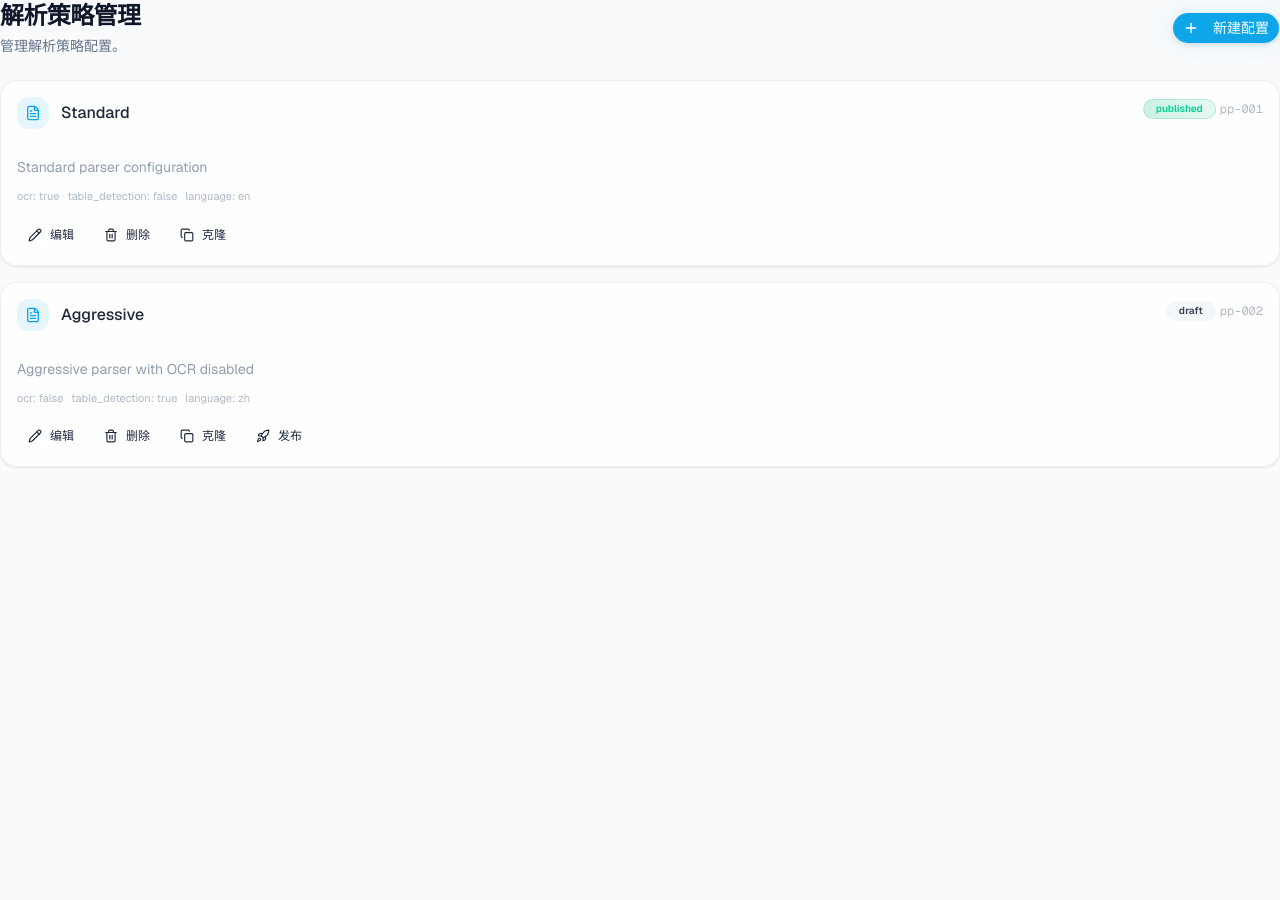
ParserProfilesPage › Edit Profile › submits updated data and refreshes list
Expected: the text "Standard" is shown, [61,101,130,125]
Click the button "编辑" below "en". click: (51, 235)
box: [17,221,85,249]
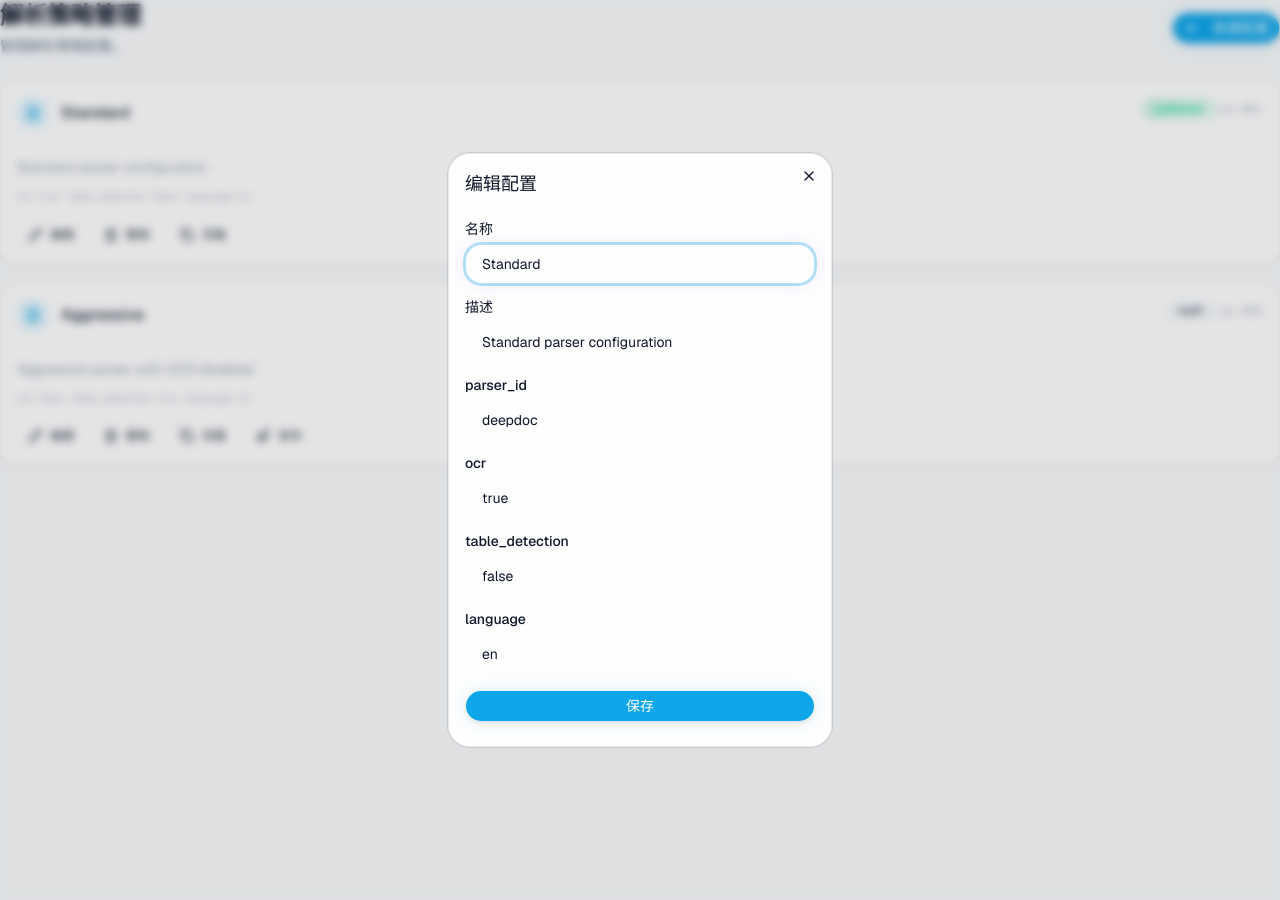
Expected: the dialog with test id "edit-profile-dialog" is shown, [448,153,832,747]
Replace the text in the field labelled "名称" with "Updated Standard". click: (640, 264)
box: [465,244,815,284]
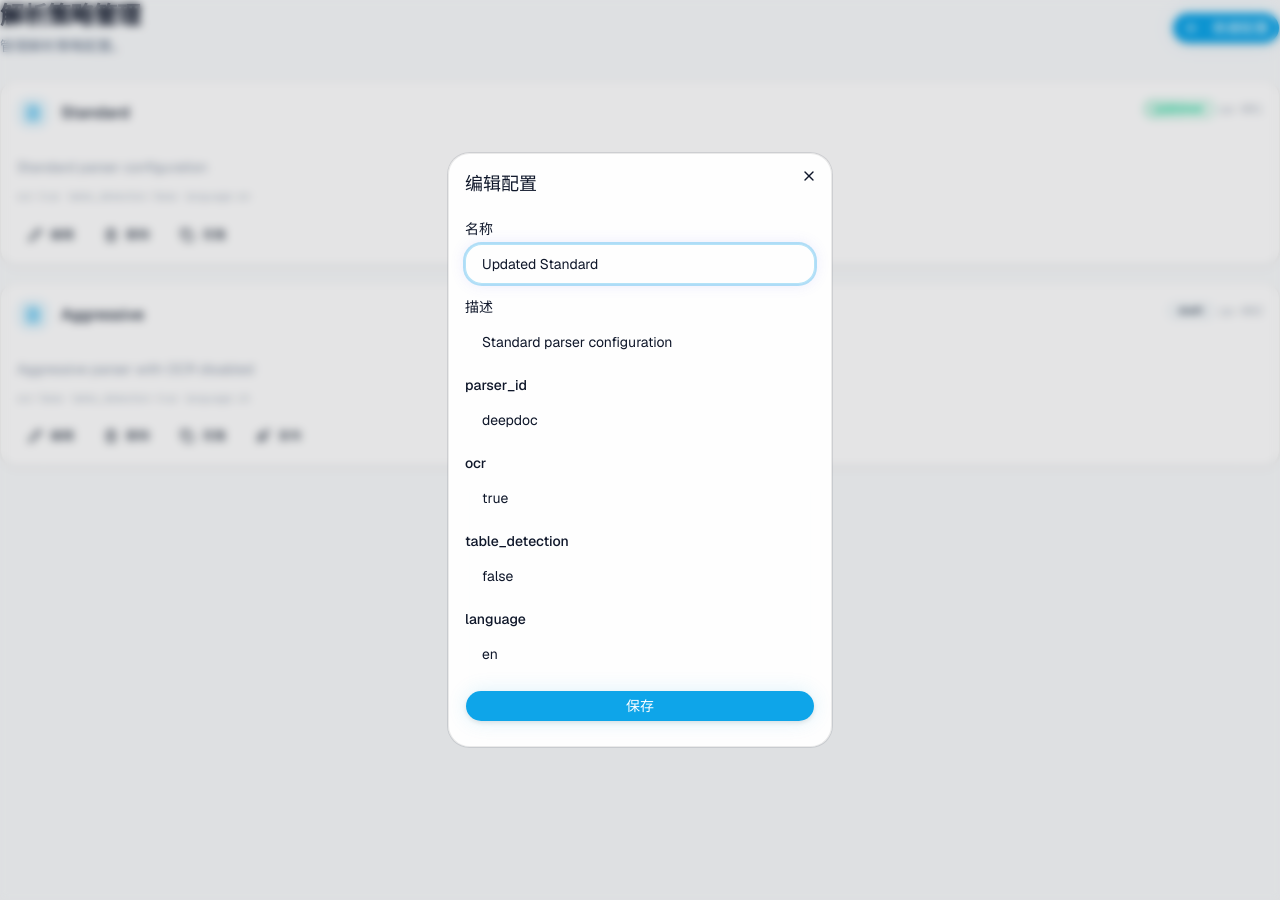
Click the button "保存". click: (640, 706)
box: [465,690,815,722]
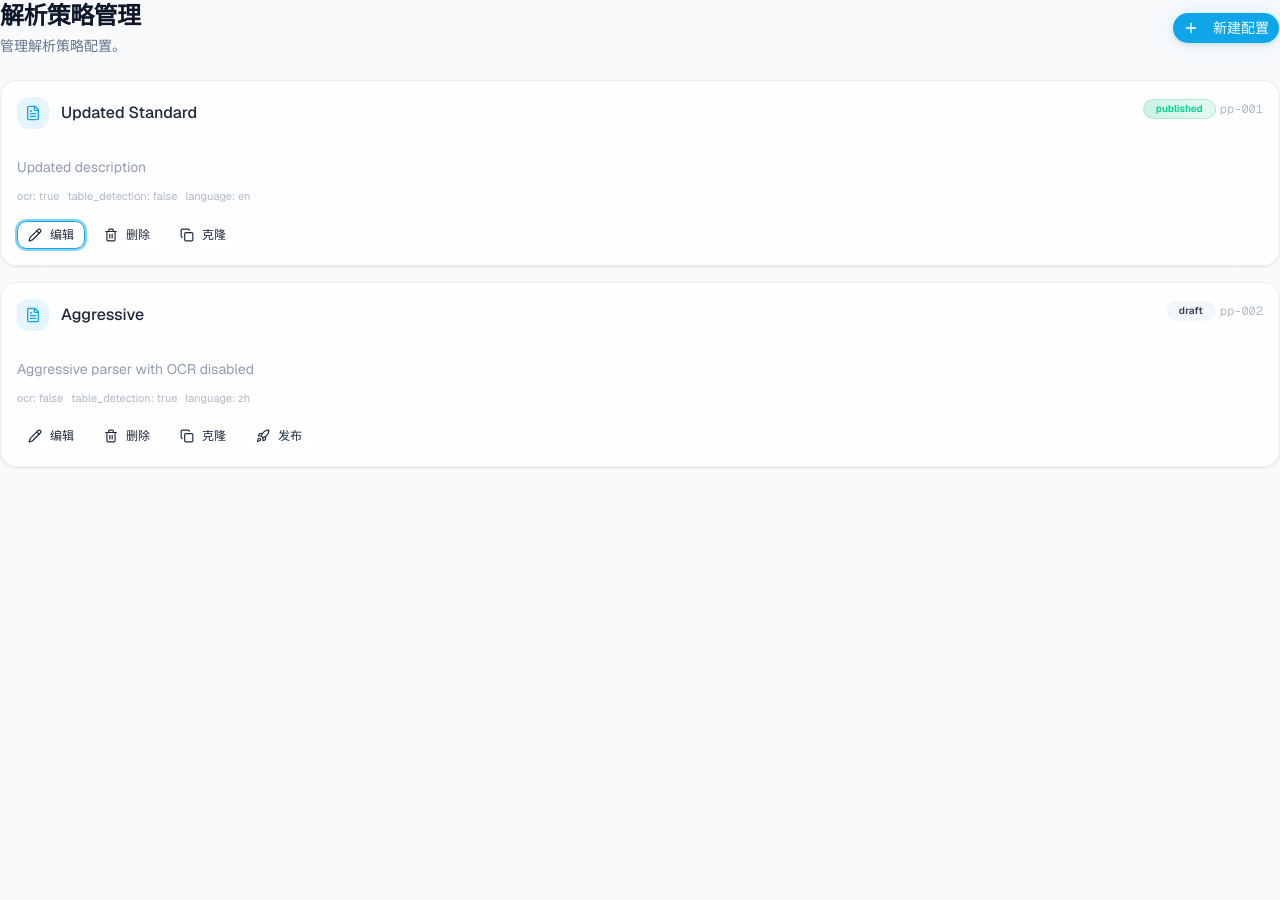
Expected: the dialog with test id "edit-profile-dialog" is gone
